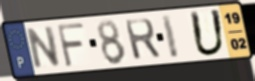8: (96, 19, 128, 66)
F: (55, 21, 86, 69)
I: (159, 13, 181, 61)
N: (26, 25, 62, 71)
R: (123, 16, 163, 61)
U: (188, 8, 228, 58)
